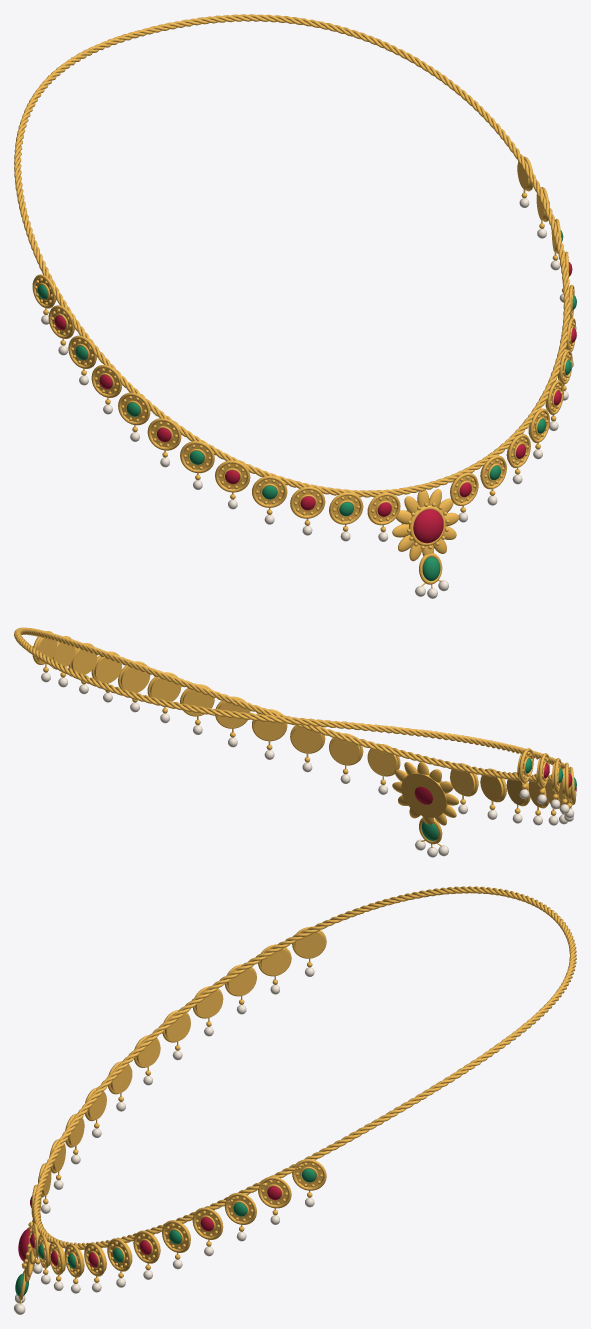
The model's file is traditional-necklace.glb.
3 renders of one model, top to bottom at view 1: azimuth 30°, elevation 25°; view 2: azimuth 150°, elevation 25°; view 3: azimuth 270°, elevation 25°, orthographic.
Visible parts, largest first — view 1: metal, ruby-cabochon, pearl, emerald-cabochon; view 2: metal, pearl, emerald-cabochon, ruby-cabochon; view 3: metal, pearl, ruby-cabochon, emerald-cabochon.
Boxes of the visible parts, bbox=[...] form: metal: bbox=[14, 14, 576, 588]; ruby-cabochon: bbox=[54, 201, 576, 543]; pearl: bbox=[41, 198, 573, 598]; emerald-cabochon: bbox=[37, 230, 576, 580]; metal: bbox=[14, 627, 576, 847]; pearl: bbox=[41, 672, 574, 857]; emerald-cabochon: bbox=[421, 758, 576, 840]; ruby-cabochon: bbox=[414, 763, 576, 804]; metal: bbox=[18, 886, 576, 1304]; pearl: bbox=[14, 967, 314, 1314]; ruby-cabochon: bbox=[18, 1186, 281, 1267]; emerald-cabochon: bbox=[15, 1168, 316, 1296].
Size of the model in its own units: 13.6 by 9.64 by 13.64.
